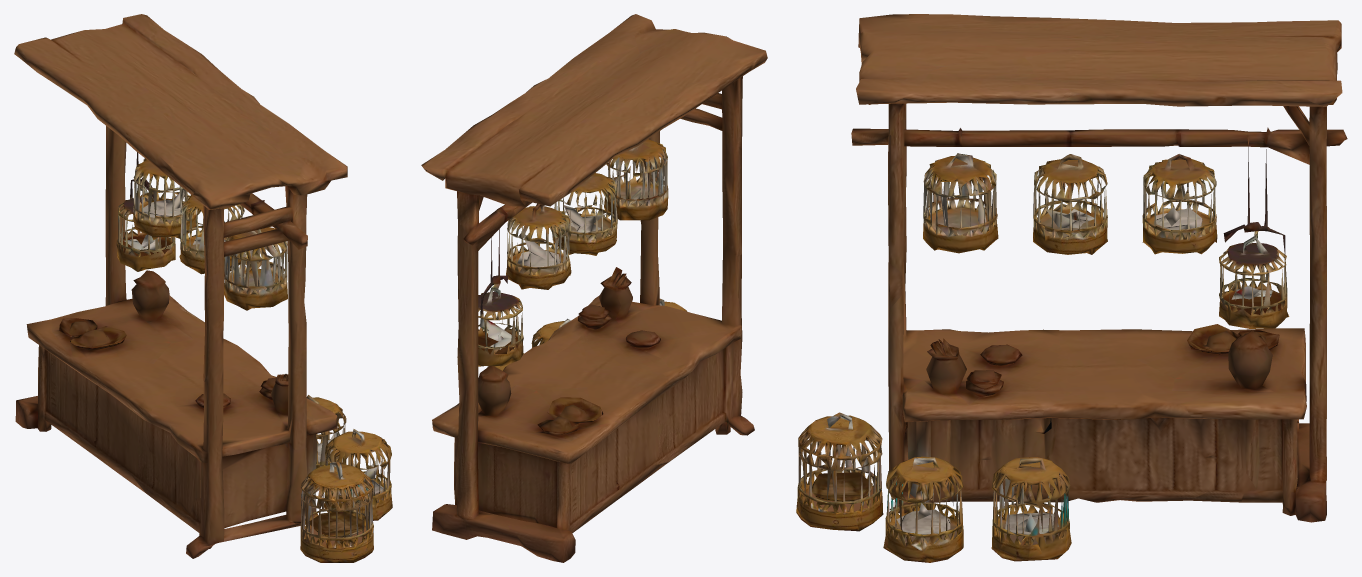
File: stall-birds.glb
3 renders of one model, left to right at view 1: azimuth 30°, elevation 25°; view 2: azimuth 150°, elevation 25°; view 3: azimuth 270°, elevation 25°, orthographic. The views are drawn at different scales.
Visible parts, largest first — view 1: tripo_node_a87f70e9-a5e8-4a88-84d0-e88263024c3d; view 2: tripo_node_a87f70e9-a5e8-4a88-84d0-e88263024c3d; view 3: tripo_node_a87f70e9-a5e8-4a88-84d0-e88263024c3d.
Part boxes in pixels (bbox=[...]): tripo_node_a87f70e9-a5e8-4a88-84d0-e88263024c3d: bbox=[14, 14, 392, 562]; tripo_node_a87f70e9-a5e8-4a88-84d0-e88263024c3d: bbox=[421, 14, 767, 562]; tripo_node_a87f70e9-a5e8-4a88-84d0-e88263024c3d: bbox=[796, 14, 1347, 562].
Size of the model in its own units: 0.5068 by 0.8821 by 1.
1 material, 1 textured.
